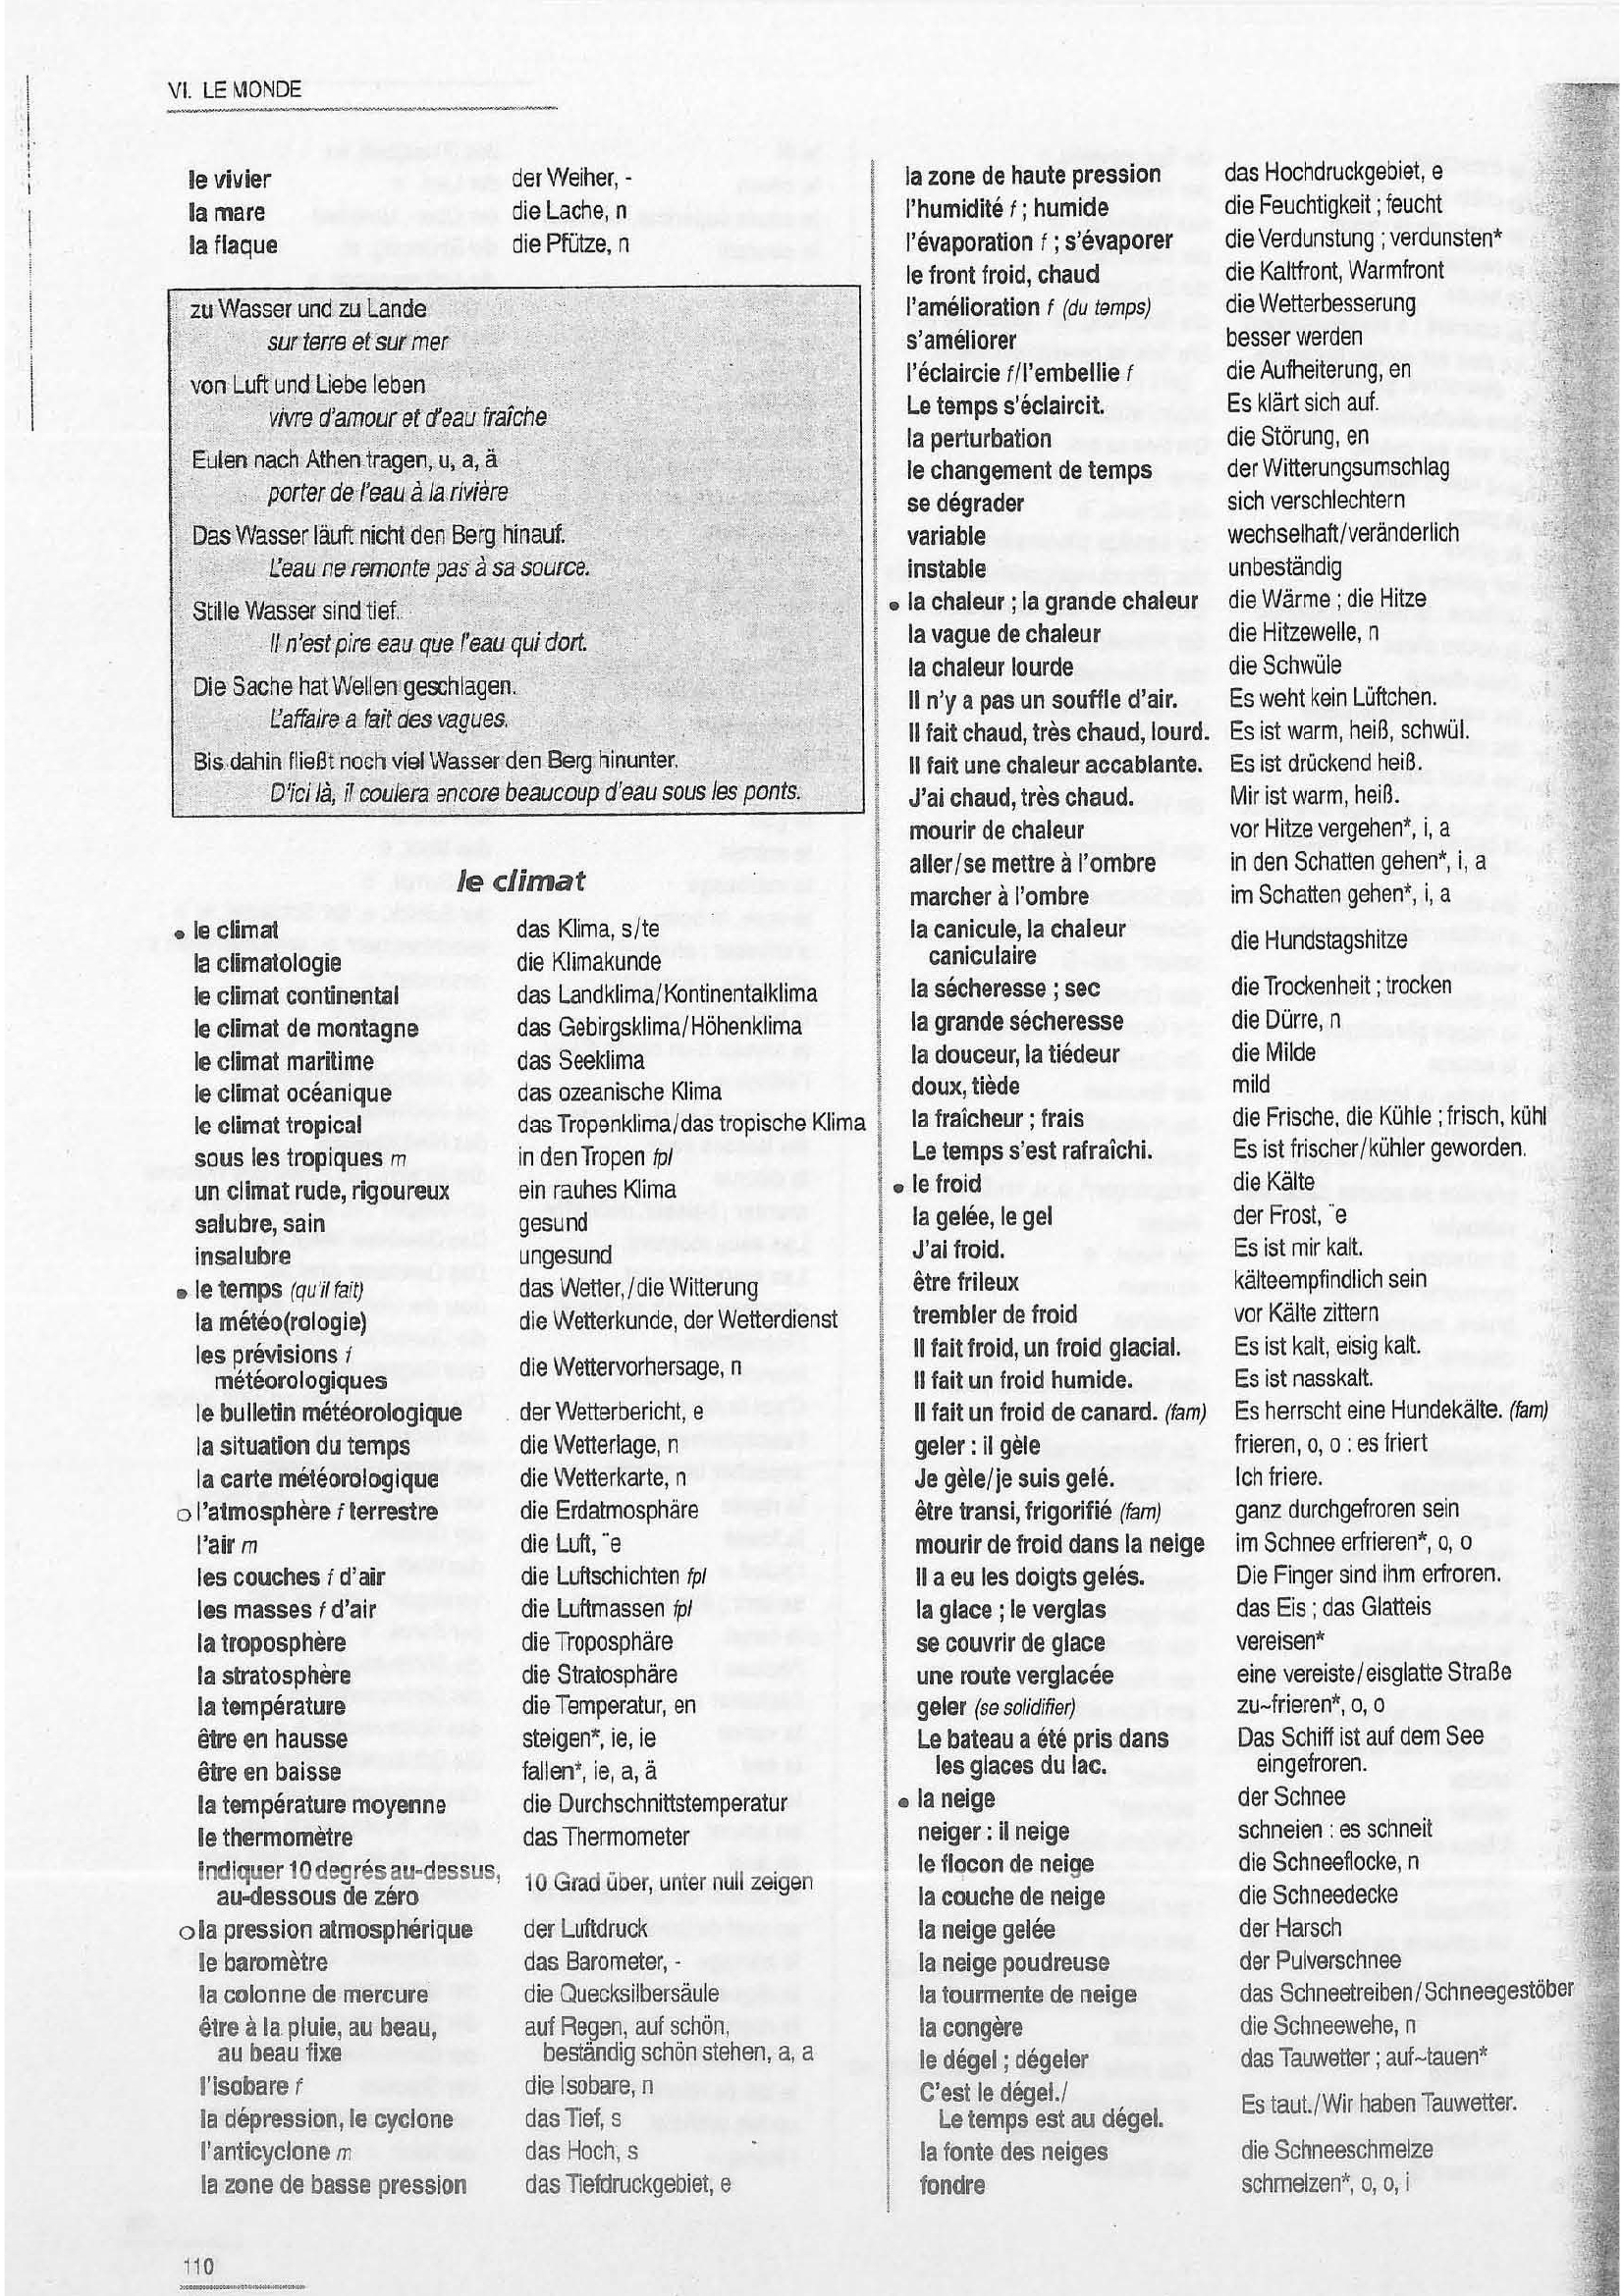French_voc: (898, 130, 1188, 2247), (172, 899, 504, 2247), (172, 135, 475, 283)
German_voc: (1207, 130, 1594, 2247), (511, 899, 874, 2215), (492, 130, 807, 278)
